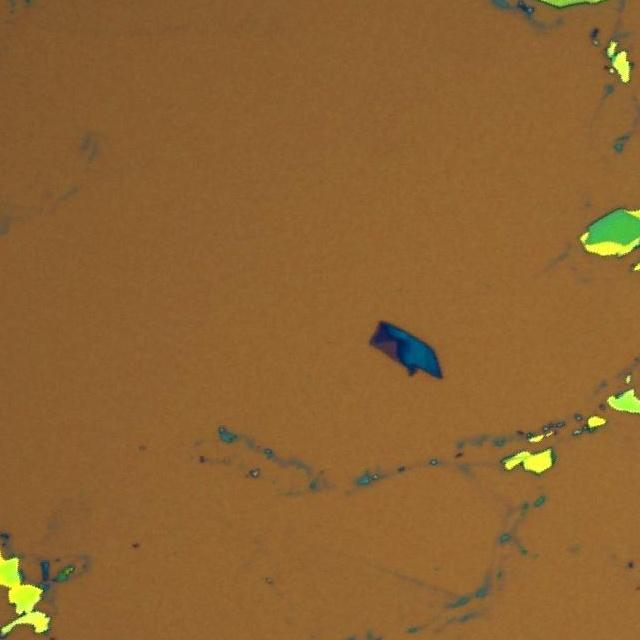monolayer-eWW4: (376, 340, 396, 360)
